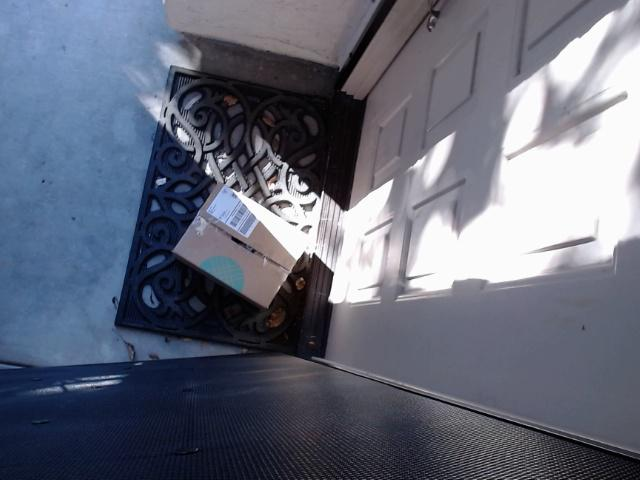box: (172, 182, 310, 310)
